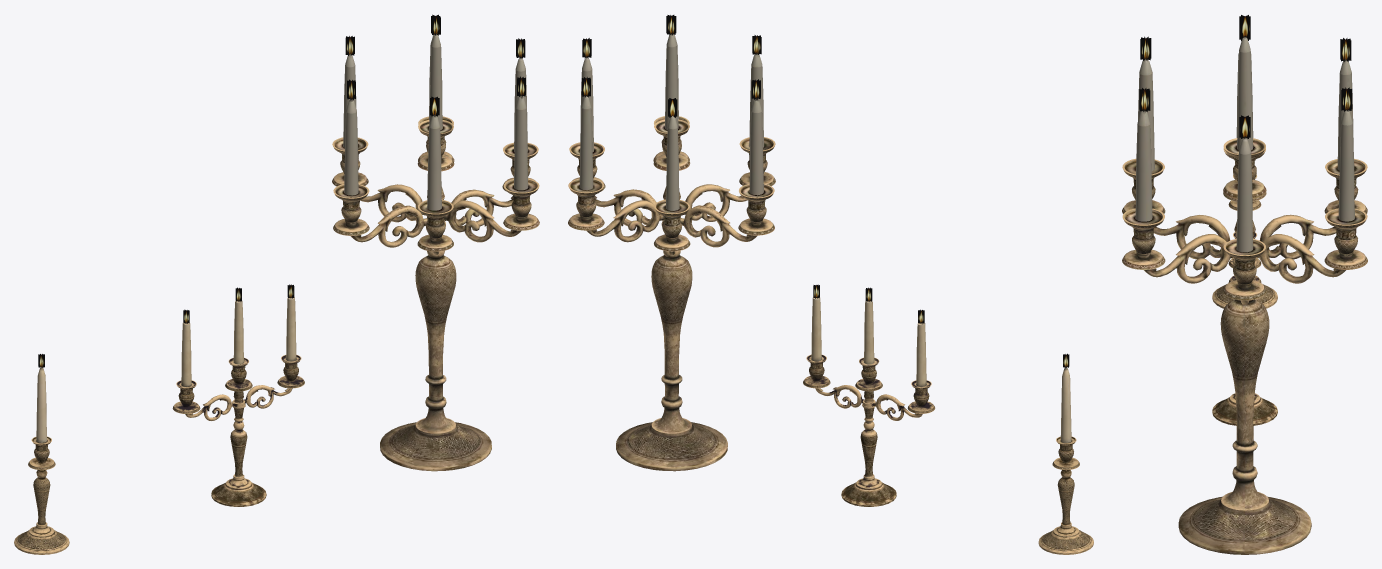
The model's file is brass_candleholders.glb.
The picture shows the model from 3 angles, left to right: view 1: azimuth 30°, elevation 25°; view 2: azimuth 150°, elevation 25°; view 3: azimuth 270°, elevation 25°; orthographic projection. The views are drawn at different scales.
Parts seen in each view (by area): view 1: brass_candleholder_03, brass_candleholder_02, brass_candleholder_01; view 2: brass_candleholder_03, brass_candleholder_02, brass_candleholder_01; view 3: brass_candleholder_03, brass_candleholder_02, brass_candleholder_01.
Part boxes in pixels (left/top/right/bottom): brass_candleholder_03: left=38, top=14, right=539, bottom=471; brass_candleholder_02: left=172, top=296, right=304, bottom=506; brass_candleholder_01: left=14, top=367, right=69, bottom=554; brass_candleholder_03: left=568, top=15, right=1069, bottom=471; brass_candleholder_02: left=803, top=297, right=935, bottom=506; brass_candleholder_01: left=1038, top=364, right=1093, bottom=554; brass_candleholder_03: left=1122, top=15, right=1367, bottom=554; brass_candleholder_02: left=1212, top=232, right=1277, bottom=425; brass_candleholder_01: left=1212, top=174, right=1277, bottom=308.
Size of the model in its own units: 1.05 by 0.8353 by 0.3646.
Materials: 5 (5 with a texture image).
